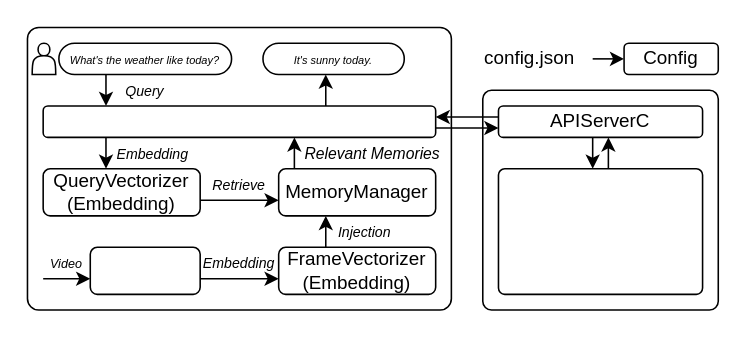
The diagram is 746 pixels wide and 338 high, and some of its shapes have lost their labels. The shapes that lost their labels are listed below. From the top down, each one's centre as x and y in pixels, then its label:
At point 239,120: "APIServerE".
At point 600,230: "Reasoner (VLM)".
At point 144,270: "StreamInput".
